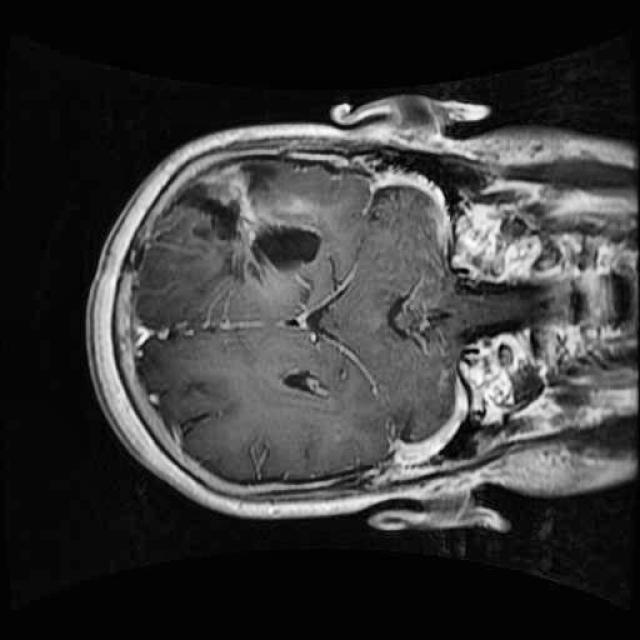Non-Tumor: (151, 151, 341, 296)
